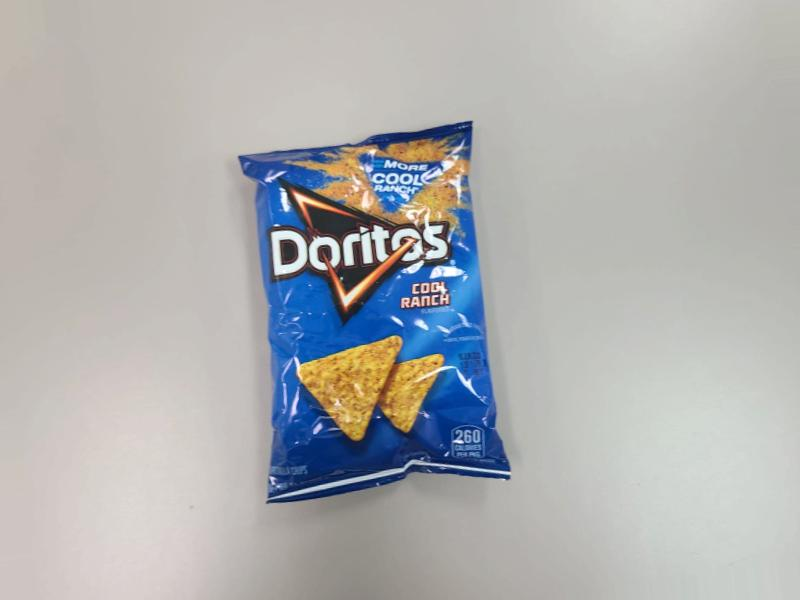doritos: (254, 134, 515, 502)
